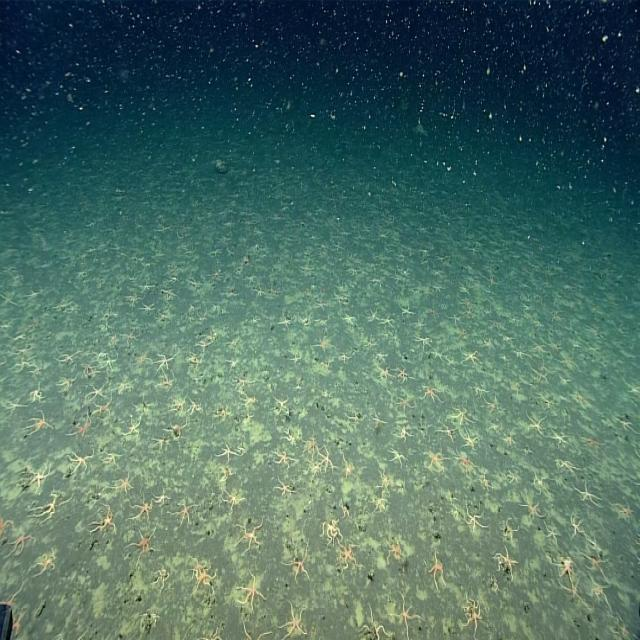brittle-stars: (278, 530, 316, 589), (28, 492, 72, 522), (238, 509, 264, 556), (279, 602, 311, 640), (391, 589, 417, 634), (578, 534, 608, 572), (118, 408, 145, 447), (459, 594, 485, 632), (30, 553, 59, 587), (572, 477, 604, 507), (222, 479, 245, 520), (425, 551, 447, 592), (87, 511, 118, 540), (588, 574, 609, 616), (128, 529, 158, 558), (68, 444, 97, 474), (190, 558, 214, 594), (178, 495, 200, 534), (522, 493, 544, 532), (30, 406, 55, 440), (361, 610, 389, 640), (239, 575, 265, 606), (131, 494, 154, 529), (496, 543, 517, 581), (563, 576, 585, 612), (316, 439, 336, 478), (272, 388, 292, 426), (424, 444, 445, 480), (217, 440, 243, 469), (28, 463, 54, 492), (95, 340, 120, 370), (465, 502, 487, 536), (339, 540, 360, 574), (274, 440, 296, 472), (148, 482, 173, 508), (551, 551, 576, 577), (369, 491, 393, 518), (87, 373, 106, 407), (118, 326, 146, 349), (528, 414, 551, 442), (54, 372, 80, 396), (100, 443, 120, 474), (26, 380, 48, 408), (273, 474, 295, 502), (501, 516, 523, 544), (555, 452, 579, 477), (9, 532, 32, 558), (182, 398, 205, 424), (155, 348, 177, 375), (384, 537, 406, 564), (540, 524, 562, 551), (152, 429, 171, 460), (4, 389, 24, 418), (392, 356, 412, 385), (183, 350, 206, 375), (615, 413, 638, 438), (336, 498, 358, 524), (453, 450, 474, 477), (10, 353, 38, 373), (488, 393, 508, 421), (113, 475, 137, 498), (55, 342, 80, 364), (157, 371, 180, 394), (411, 332, 434, 355), (90, 393, 112, 417), (390, 442, 408, 471), (153, 563, 173, 589), (166, 393, 186, 419), (461, 346, 480, 373), (70, 415, 92, 438), (284, 346, 307, 368), (112, 380, 140, 398), (240, 393, 260, 418), (560, 347, 576, 378), (570, 511, 587, 540), (160, 282, 182, 304), (214, 403, 234, 427), (533, 469, 552, 494), (378, 468, 398, 491), (231, 376, 254, 396), (505, 466, 522, 493), (300, 429, 318, 454), (452, 403, 470, 428), (312, 332, 330, 356), (512, 344, 530, 368), (0, 514, 15, 542), (532, 338, 550, 361), (324, 523, 344, 543), (424, 380, 436, 412), (398, 415, 411, 444), (339, 458, 354, 483), (534, 367, 551, 389), (370, 411, 386, 434), (349, 406, 363, 432), (398, 303, 417, 322), (255, 288, 270, 312), (142, 304, 162, 322), (376, 358, 388, 386), (306, 459, 321, 481), (334, 348, 350, 368), (366, 309, 382, 329), (481, 469, 492, 497), (279, 312, 295, 331), (141, 277, 157, 295), (400, 390, 412, 409), (381, 311, 391, 328), (450, 308, 460, 324), (128, 294, 139, 306), (242, 274, 255, 284)
